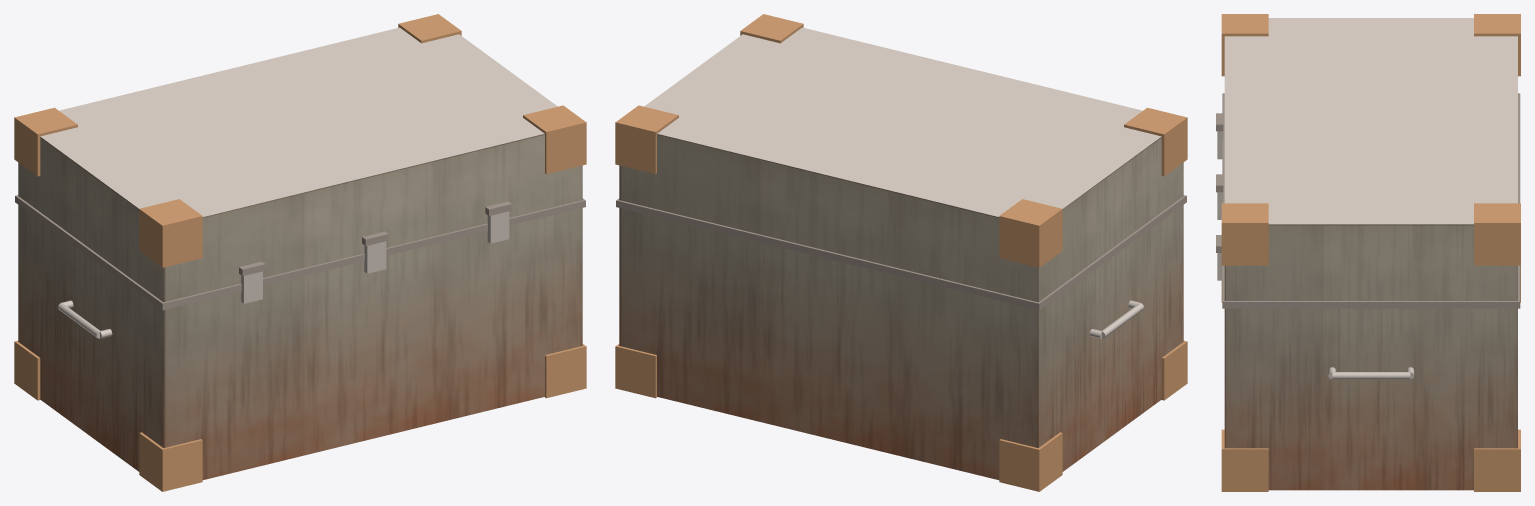
Rendered from D02_crate_large.glb.
The picture shows the model from 3 angles, left to right: view 1: azimuth 30°, elevation 25°; view 2: azimuth 150°, elevation 25°; view 3: azimuth 270°, elevation 25°; orthographic projection.
Parts seen in each view (by area): view 1: shell, corner_cap (×7), lid_seam, latch (×3); view 2: shell, corner_cap (×7), lid_seam; view 3: shell, corner_cap (×6), lid_seam, side_handle.
Part boxes in pixels (x1,y1,x2,y2): shell: (18, 27, 582, 479); corner_cap (×7): (14, 14, 586, 491); lid_seam: (15, 195, 585, 310); latch (×3): (241, 211, 509, 303); shell: (619, 27, 1183, 479); corner_cap (×7): (615, 14, 1187, 491); lid_seam: (616, 195, 1186, 310); shell: (1224, 18, 1517, 490); corner_cap (×6): (1221, 14, 1520, 491); lid_seam: (1222, 93, 1520, 308); side_handle: (1332, 372, 1410, 379).
Size of the model in its own units: 2.13 by 1.21 by 1.25.
6 materials, 1 textured.
